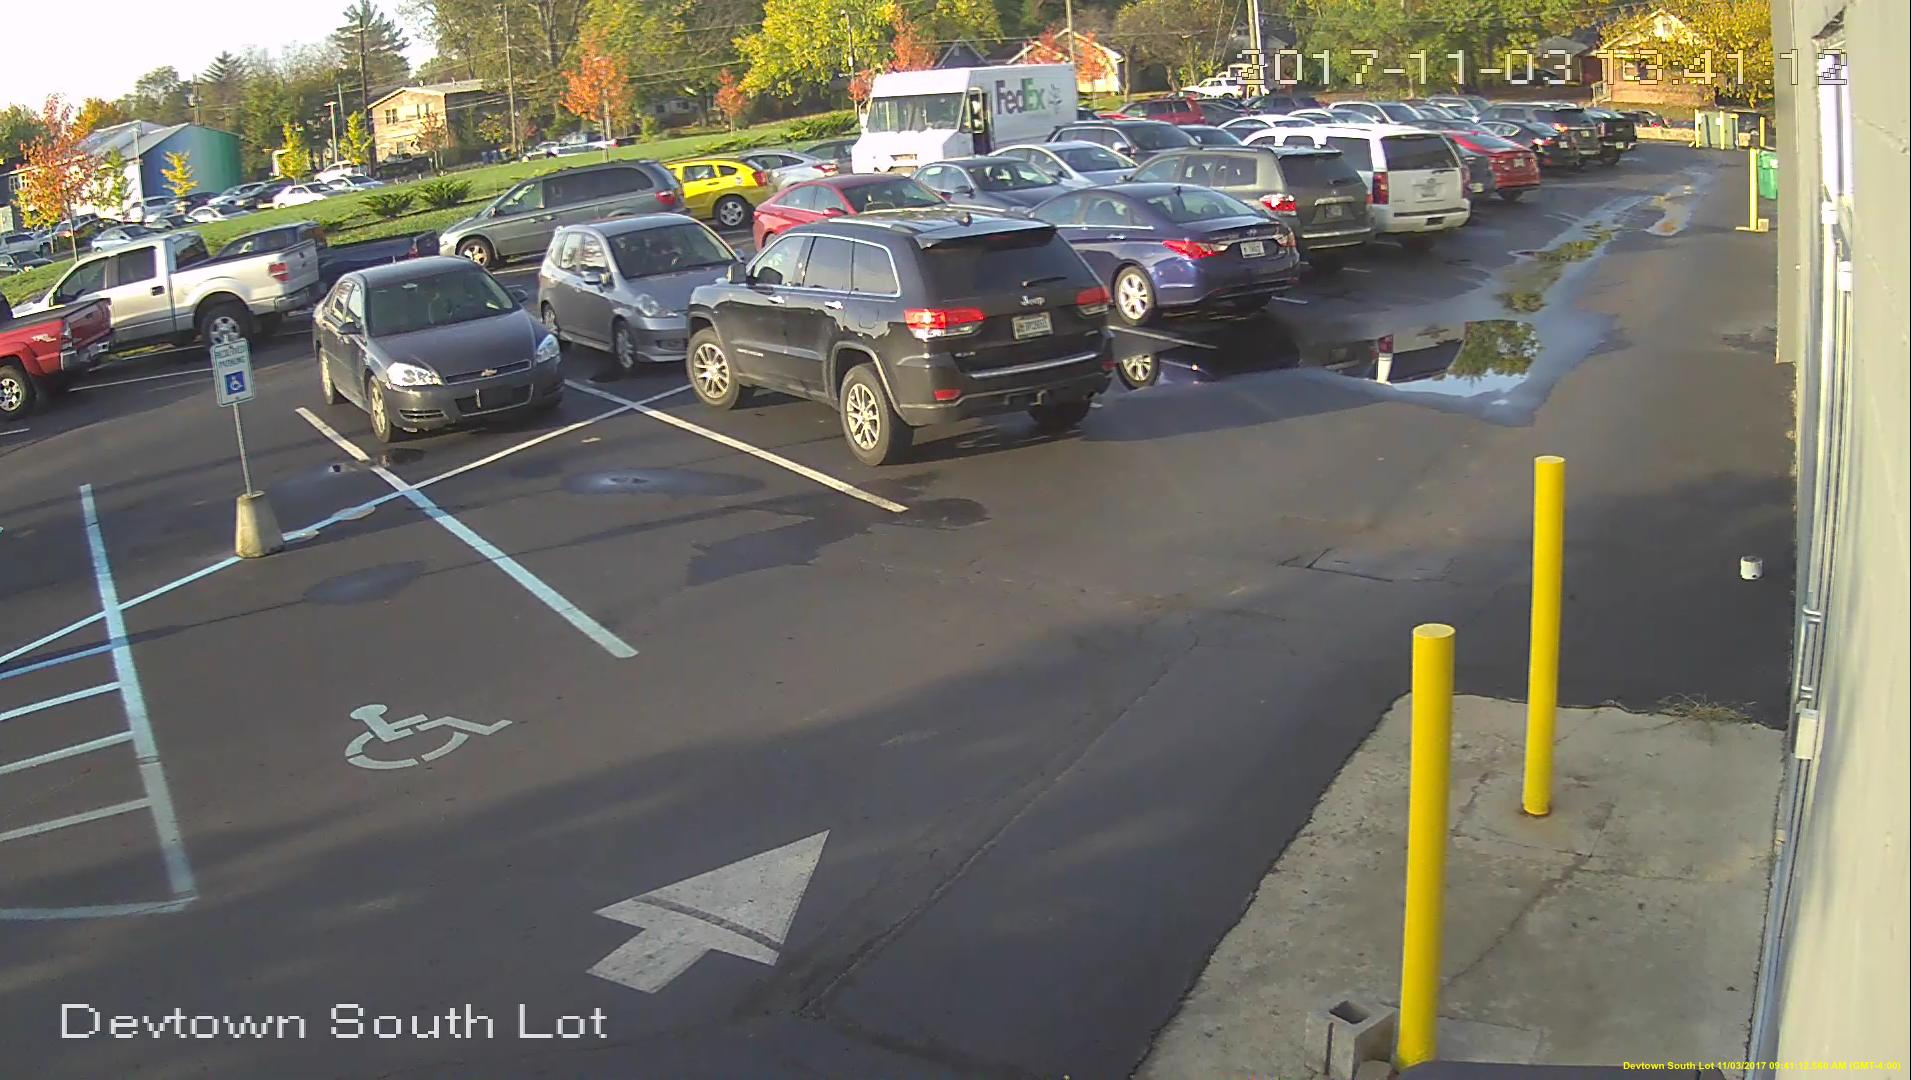fedex_truck: (849, 60, 1084, 173)
